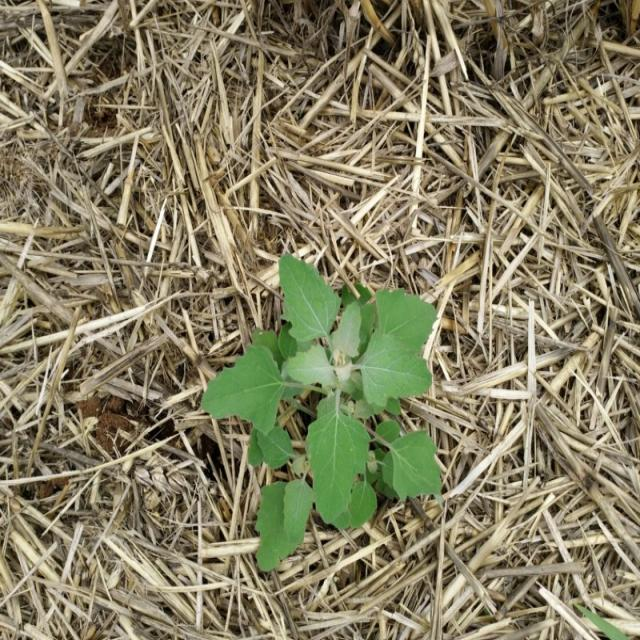ca: (208, 254, 440, 570)
